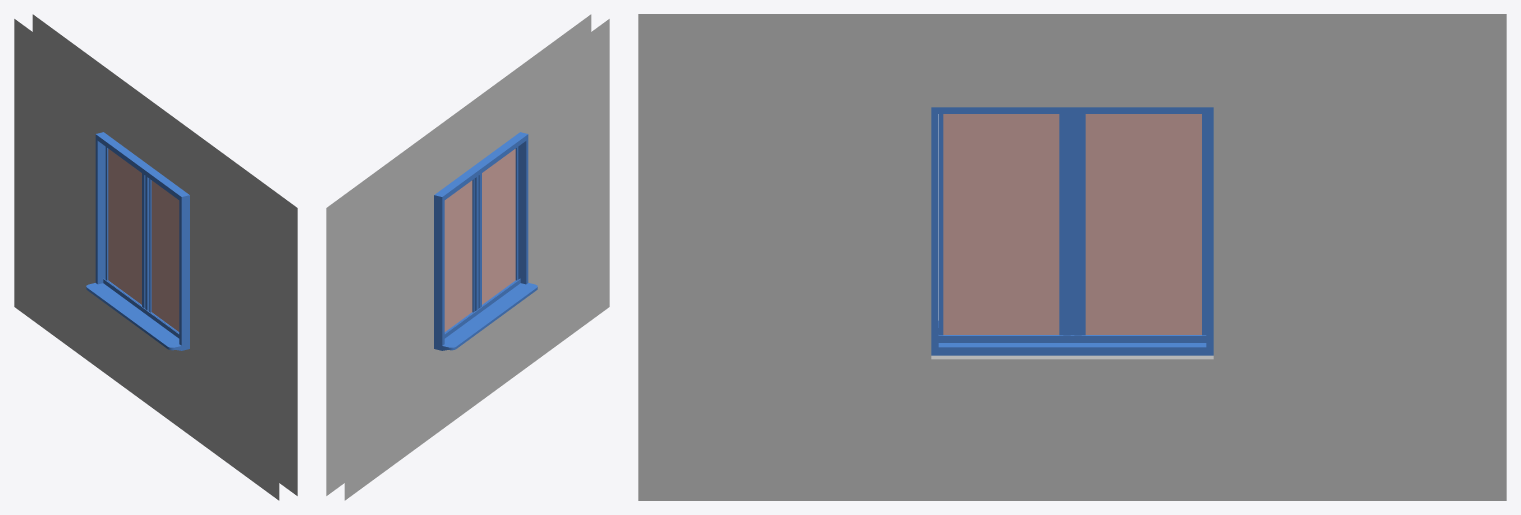
The model's file is AE_House_03_Windows_02.fbx.
3 views of the same model, side by side, from view 1: azimuth 30°, elevation 25°; view 2: azimuth 150°, elevation 25°; view 3: azimuth 270°, elevation 25° (orthographic). The views are drawn at different scales.
Visible parts, largest first — view 1: AE_House_03_Windows_02_LOD0; view 2: AE_House_03_Windows_02_LOD0; view 3: AE_House_03_Windows_02_LOD0.
Part boxes in pixels (x1=…): AE_House_03_Windows_02_LOD0: x1=14, y1=14, x2=297, y2=500; AE_House_03_Windows_02_LOD0: x1=326, y1=14, x2=609, y2=500; AE_House_03_Windows_02_LOD0: x1=638, y1=14, x2=1506, y2=500.
Size of what is drawn, in the model's own units: 41.21 by 300 by 500.
